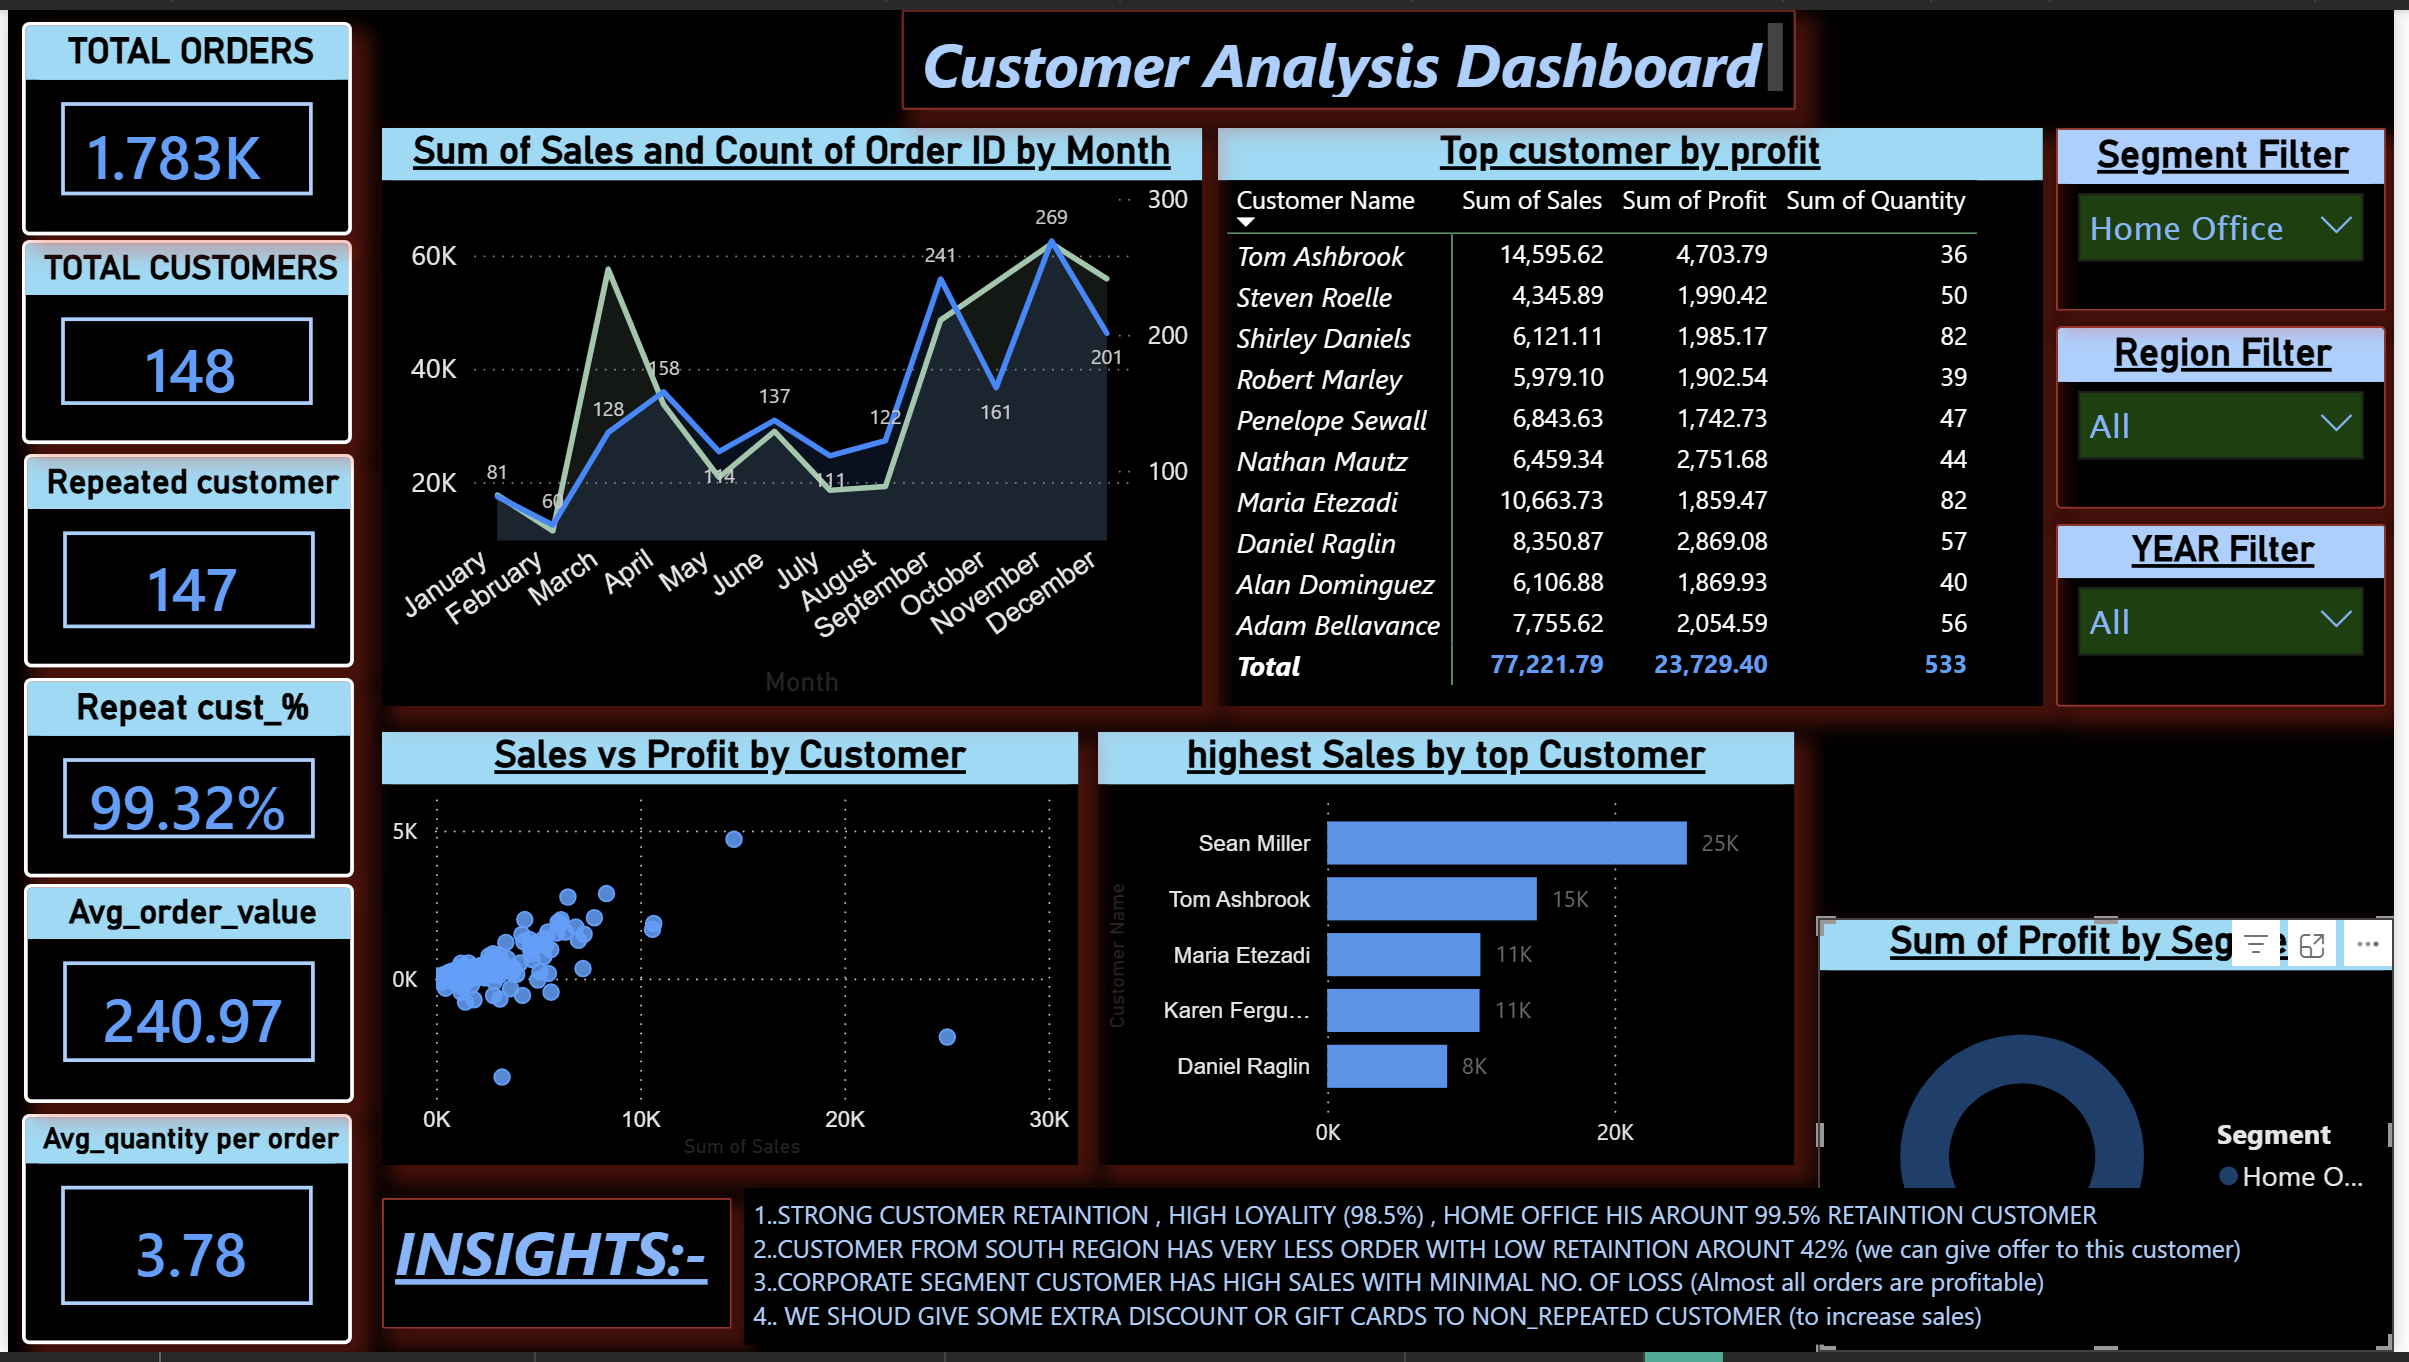

What the dashboard file says about the page in this screenshot:
{"tool":"powerbi","page":{"name":"Customer analytics dashboard","canvas":[1280,720],"ordinal":1},"visuals":[{"type":"cardVisual","title":"Repeated customer","fields":{"Data":["Sample - Superstore csv.repeat customer"]},"box":[8.9,238.4,177.2,114.7],"z":0},{"type":"cardVisual","title":"Repeat cust_%","fields":{"Data":["Sample - Superstore csv.repeat cust_%"]},"box":[8.9,358.2,177.2,107.1],"z":1000},{"type":"cardVisual","title":"TOTAL CUSTOMERS","fields":{"Data":["Count(Sample - Superstore csv.Customer ID)"]},"box":[7.6,123.7,177.2,109.6],"z":2000},{"type":"cardVisual","title":"Avg_quantity per order","fields":{"Data":["Sample - Superstore csv.AVG_QUN"]},"box":[7.6,592.8,177.2,123.7],"z":3000},{"type":"cardVisual","title":"Avg_order_value","fields":{"Data":["Sample - Superstore csv.avg_order_value"]},"box":[8.9,469.2,177.2,117.3],"z":4000},{"type":"cardVisual","title":"TOTAL ORDERS","fields":{"Data":["CountNonNull(Sample - Superstore csv.Order ID)"]},"box":[7.6,6.4,177.2,114.7],"z":5000},{"type":"barChart","title":"highest Sales by top Customer","fields":{"Category":["Sample - Superstore csv.Customer Name"],"Y":["Sum(Sample - Superstore csv.Sales)"]},"box":[584.9,387.4,373.6,232.7],"z":6000},{"type":"scatterChart","title":"Sales vs Profit by Customer ","fields":{"Y":["Sum(Sample - Superstore csv.Profit)"],"X":["Sum(Sample - Superstore csv.Sales)"],"Category":["Sample - Superstore csv.Customer Name"]},"box":[200.6,387.4,373.6,232.7],"z":7000},{"type":"donutChart","fields":{"Category":["Sample - Superstore csv.Segment"],"Y":["Sum(Sample - Superstore csv.Profit)"]},"box":[971.1,487.2,309,232.8],"z":8000},{"type":"pivotTable","title":"Top customer by profit","fields":{"Rows":["Sample - Superstore csv.Customer Name"],"Values":["Sum(Sample - Superstore csv.Sales)","Sum(Sample - Superstore csv.Profit)","Sum(Sample - Superstore csv.Quantity)"]},"box":[648.9,63.7,442.4,309.8],"z":9000},{"type":"slicer","title":"Region Filter","fields":{"Values":["Sample - Superstore csv.Region"]},"box":[1099,169.6,177.2,98.2],"z":10000},{"type":"lineChart","fields":{"Y":["Sum(Sample - Superstore csv.Sales)"],"Category":["Sample - Superstore csv.Order Date.Variation.Date Hierarchy.Month"],"Y2":["CountNonNull(Sample - Superstore csv.Order ID)"]},"box":[200.2,63.7,439.8,309.8],"z":11000},{"type":"slicer","title":"YEAR Filter","fields":{"Values":["Sample - Superstore csv.date_year"]},"box":[1099,275.4,177.2,98.2],"z":12000},{"type":"slicer","title":"Segment Filter","fields":{"Values":["Sample - Superstore csv.Segment"]},"box":[1099,63.7,177.2,98.2],"z":13000},{"type":"textbox","box":[479.4,0,479.4,53.5],"z":14000},{"type":"textbox","box":[200.2,637.5,187.4,70.1],"z":15000},{"type":"textbox","box":[395.2,632.4,881,84.1],"z":16000}]}

Visuals, with their boxes in screenshot pixels (x1, y1, x2, y2), scaled from the page's 1280x720 canvas onto the 2409x1362 screenshot:
"Repeated customer" cardVisual: (17, 451, 350, 668)
"Repeat cust_%" cardVisual: (17, 678, 350, 880)
"TOTAL CUSTOMERS" cardVisual: (14, 234, 348, 441)
"Avg_quantity per order" cardVisual: (14, 1121, 348, 1355)
"Avg_order_value" cardVisual: (17, 888, 350, 1109)
"TOTAL ORDERS" cardVisual: (14, 12, 348, 229)
"highest Sales by top Customer" barChart: (1101, 733, 1804, 1173)
"Sales vs Profit by Customer " scatterChart: (378, 733, 1081, 1173)
donutChart - Sample - Superstore csv.Segment x Sum(Sample - Superstore csv.Profit): (1828, 922, 2408, 1361)
"Top customer by profit" pivotTable: (1221, 120, 2054, 707)
"Region Filter" slicer: (2068, 321, 2402, 507)
lineChart - Sum(Sample - Superstore csv.Sales) x Sample - Superstore csv.Order Date.Variation.Date Hierarchy.Month: (377, 120, 1204, 707)
"YEAR Filter" slicer: (2068, 521, 2402, 707)
"Segment Filter" slicer: (2068, 120, 2402, 306)
textbox: (902, 0, 1804, 101)
textbox: (377, 1206, 729, 1339)
textbox: (744, 1196, 2402, 1355)
